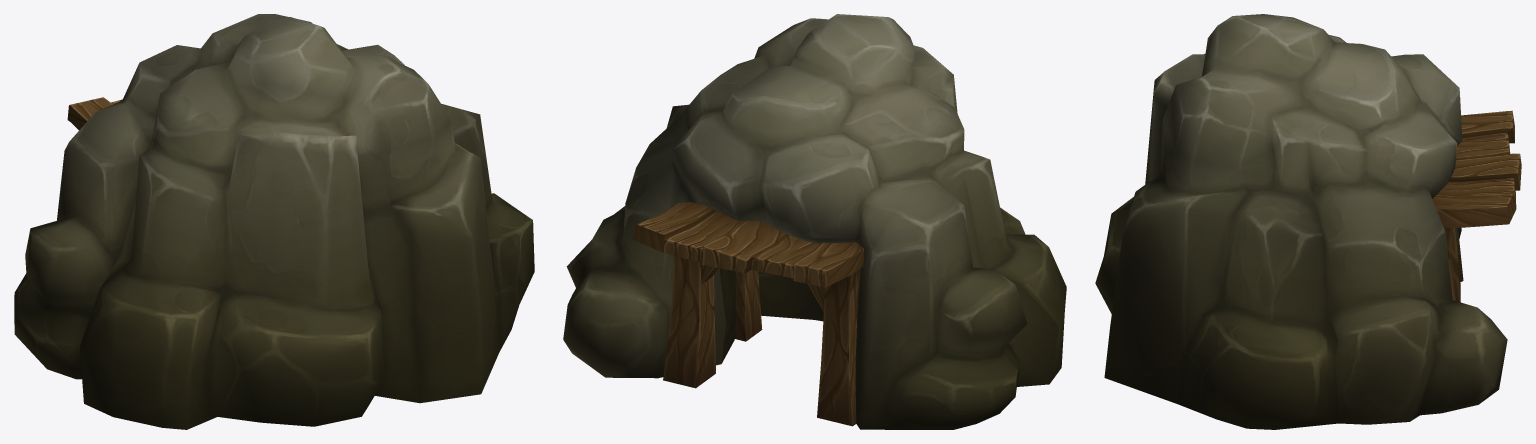
The model's file is Mine.FBX.
3 renders of one model, left to right at view 1: azimuth 30°, elevation 25°; view 2: azimuth 150°, elevation 25°; view 3: azimuth 270°, elevation 25°, orthographic. The views are drawn at different scales.
Visible parts, largest first — view 1: Mine; view 2: Mine; view 3: Mine.
Part boxes in pixels (bbox=[...]): Mine: bbox=[14, 14, 534, 429]; Mine: bbox=[563, 14, 1066, 429]; Mine: bbox=[1095, 14, 1521, 429].
Size of the model in its own units: 4.17 by 2.88 by 3.55.
